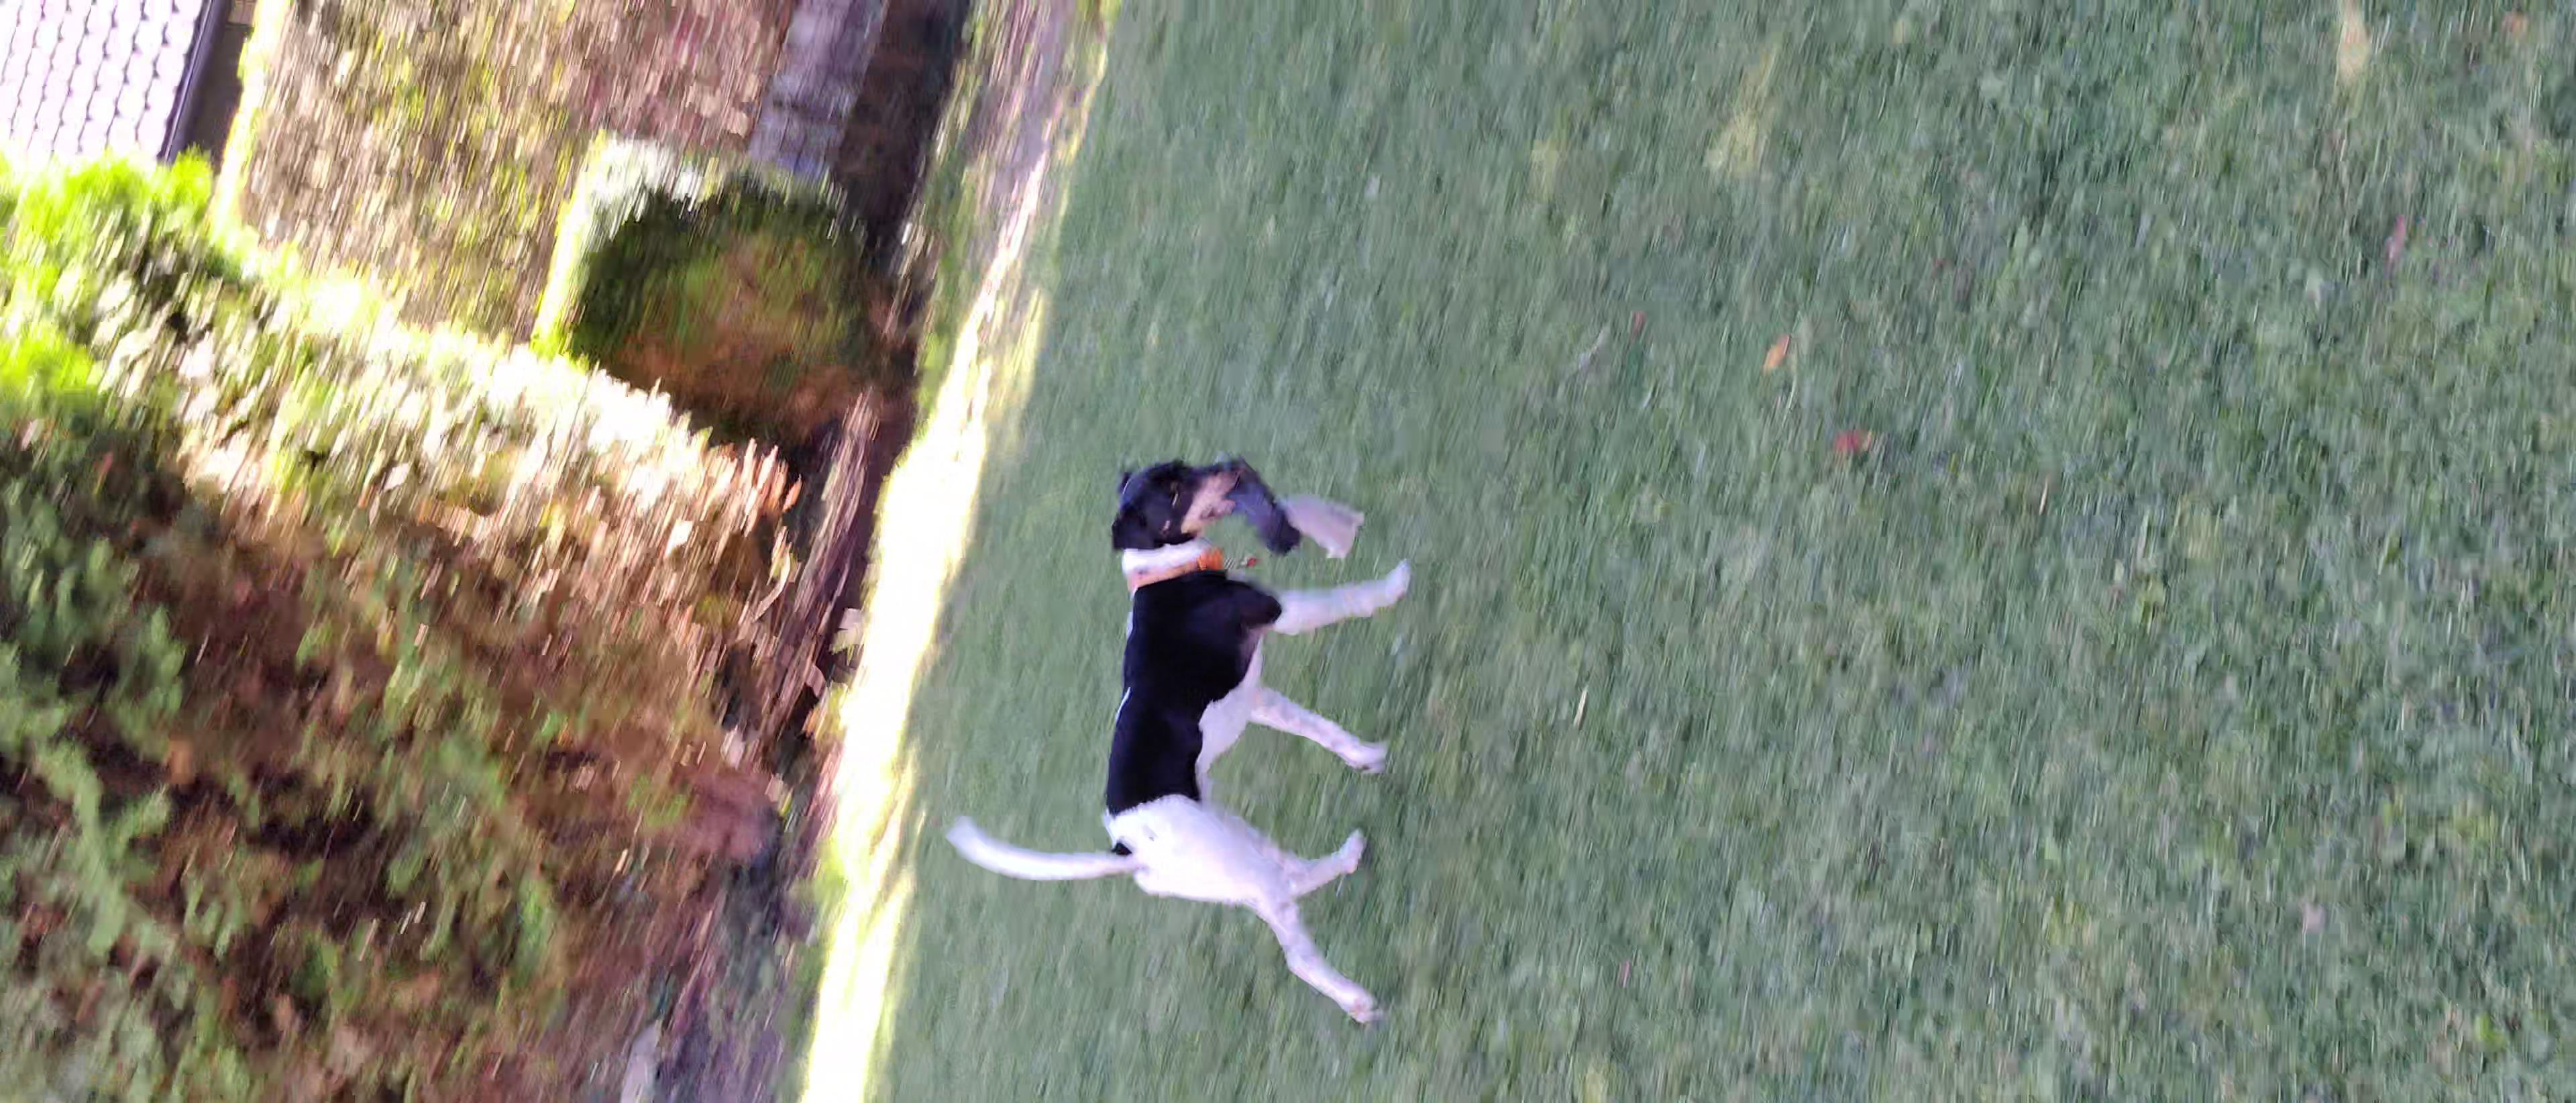Dog: (930, 442, 1424, 1031)
